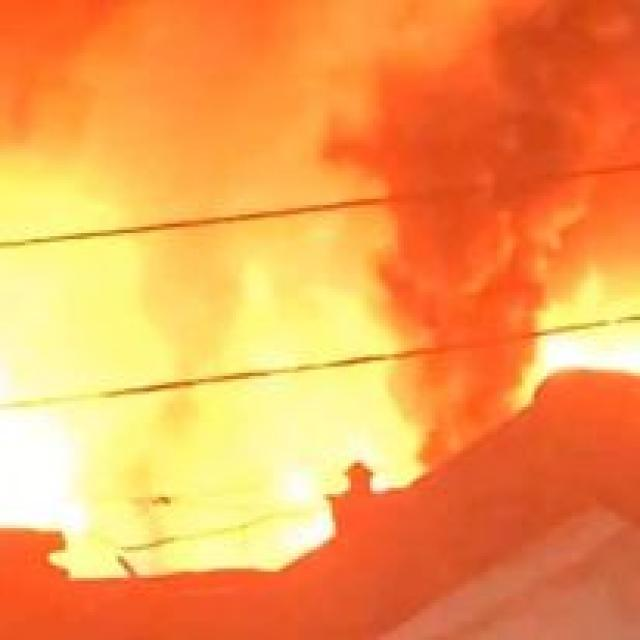Fire: (5, 150, 382, 592), (546, 243, 640, 387)
Smoke: (380, 36, 558, 478)
